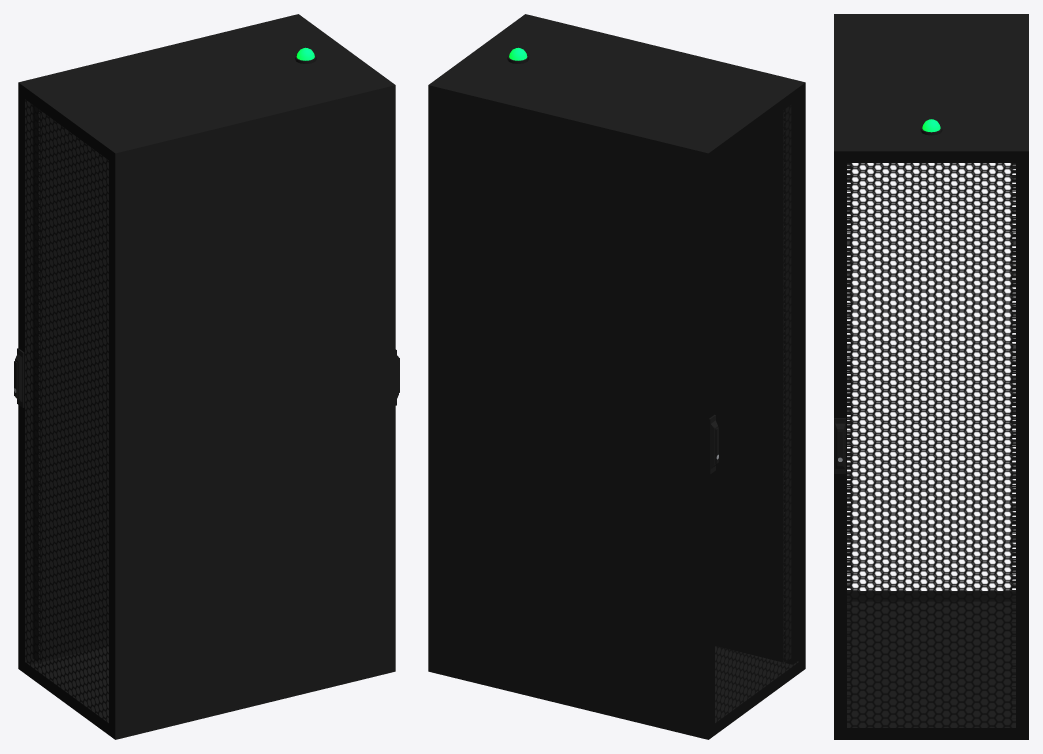
The picture shows the model from 3 angles, left to right: view 1: azimuth 30°, elevation 25°; view 2: azimuth 150°, elevation 25°; view 3: azimuth 270°, elevation 25°; orthographic projection.
Visible parts, largest first — view 1: rack_body, rack_door_2, rack_door_1; view 2: rack_body, rack_door_2, rack_door_1; view 3: rack_door_1, rack_body, rack_door_2.
Part boxes in pixels (<box>): rack_body: <box>32,21,368,736</box>; rack_door_2: <box>14,79,128,739</box>; rack_door_1: <box>271,14,399,678</box>; rack_body: <box>455,21,791,736</box>; rack_door_2: <box>695,79,805,739</box>; rack_door_1: <box>428,14,552,678</box>; rack_door_1: <box>834,138,1028,739</box>; rack_body: <box>834,20,1028,724</box>; rack_door_2: <box>834,14,1028,607</box>.
Size of the model in its own units: 0.0104 by 0.0204 by 0.006.
Materials: 2 (1 with a texture image).
